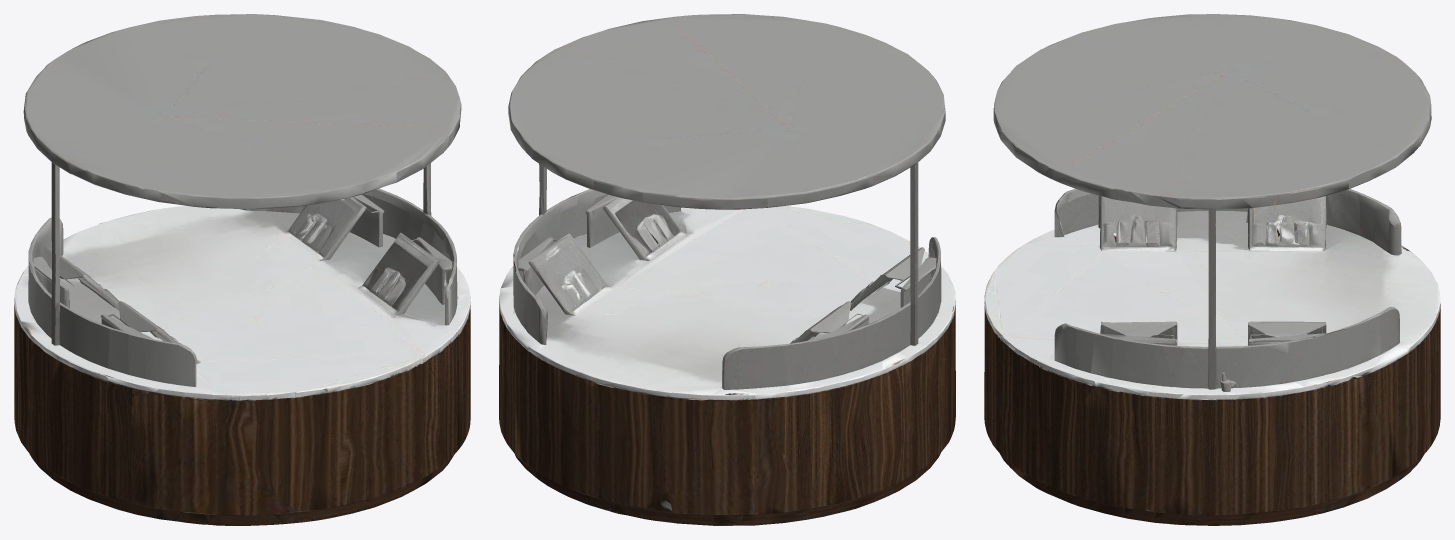
The model's file is immigration-booth-v1.glb.
3 renders of one model, left to right at view 1: azimuth 30°, elevation 25°; view 2: azimuth 150°, elevation 25°; view 3: azimuth 270°, elevation 25°, orthographic.
Bounding box in the file's own units: 2.3 × 1.83 × 2.3.
Materials: 1 (1 with a texture image).
